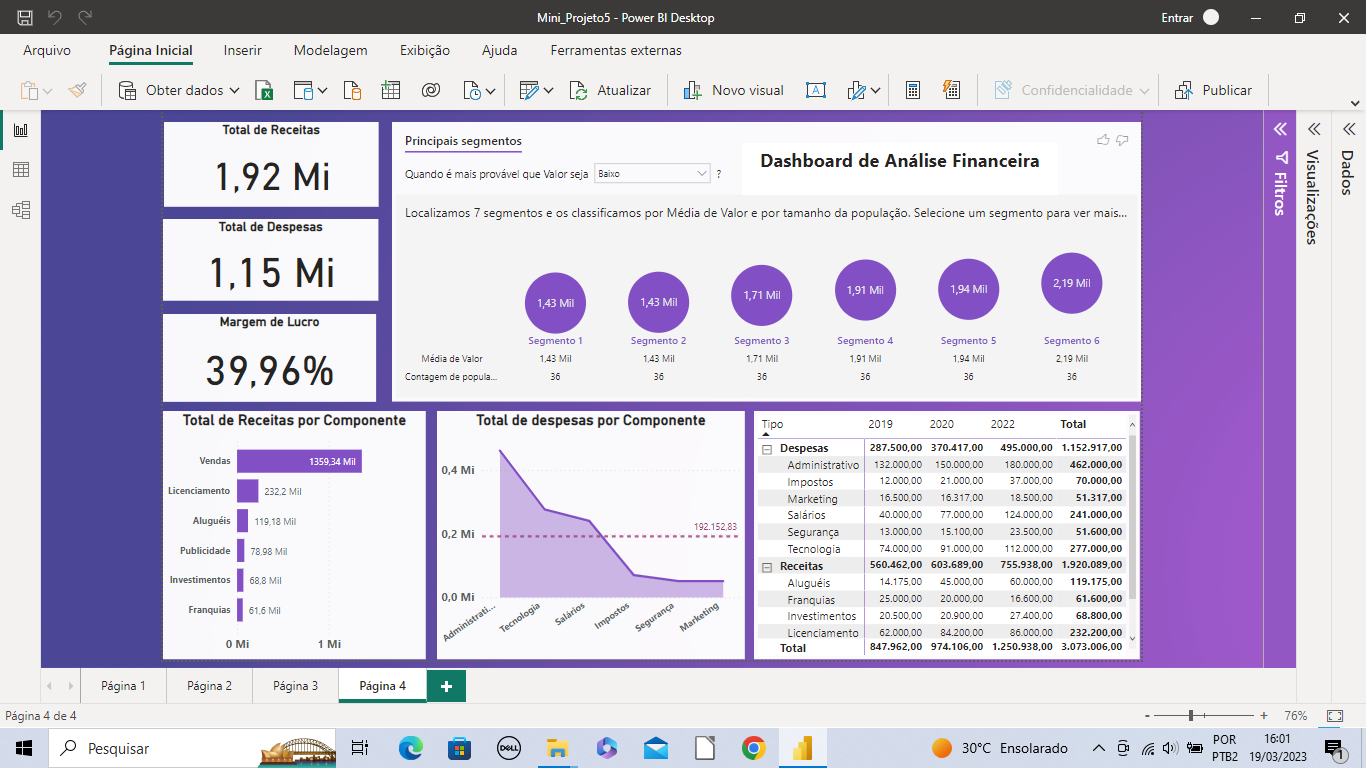

What the dashboard file says about the page in this screenshot:
{"tool":"powerbi","page":{"name":"Página 4","canvas":[1280,720],"ordinal":3},"visuals":[{"type":"keyDriversVisual","fields":{"Target":["DadosFinanceiros.Valor"],"ExplainBy":["DadosFinanceiros.Tipo","DadosFinanceiros.Componente"]},"box":[299.5,15.8,980.6,365.8],"z":0},{"type":"pivotTable","fields":{"Rows":["DadosFinanceiros.Tipo","DadosFinanceiros.Componente"],"Columns":["DadosFinanceiros.Data.Variation.Hierarquia de datas.Ano"],"Values":["Sum(DadosFinanceiros.Valor)"]},"box":[773.3,394.6,505.4,325.4],"z":1},{"type":"areaChart","title":"Total de despesas por Componente","fields":{"Y":["Medidas_Indicadores.total_despesas"],"Category":["DadosFinanceiros.Componente"]},"box":[358.6,394.6,403.2,325.4],"z":2},{"type":"clusteredBarChart","title":"Total de Receitas por Componente","fields":{"Category":["DadosFinanceiros.Componente"],"Y":["Medidas_Indicadores.total_receitas"]},"box":[0,394.6,344.2,325.4],"z":3},{"type":"card","title":"Total de Receitas","fields":{"Values":["Medidas_Indicadores.total_receitas"]},"box":[1.4,15.8,280.8,110.9],"z":4},{"type":"card","title":"Total de Despesas","fields":{"Values":["Medidas_Indicadores.total_despesas"]},"box":[0,142.6,282.2,106.6],"z":5},{"type":"card","title":"Margem de Lucro","fields":{"Values":["Medidas_Indicadores.margem_lucro"]},"box":[0,266.4,279.4,115.2],"z":6},{"type":"textbox","box":[757.4,43.2,413.3,67.7],"z":7}]}

Visuals, with their boxes on the page's 1280x720 design canvas (x1, y1, x2, y2). These are canvas units, not pixel positions in the 1366x768 screenshot, which may show the page scaled, cropped or inside an application window:
keyDriversVisual - DadosFinanceiros.Valor x DadosFinanceiros.Tipo: <box>300,16,1280,382</box>
pivotTable - DadosFinanceiros.Tipo x DadosFinanceiros.Componente: <box>773,395,1279,720</box>
"Total de despesas por Componente" areaChart: <box>359,395,762,720</box>
"Total de Receitas por Componente" clusteredBarChart: <box>0,395,344,720</box>
"Total de Receitas" card: <box>1,16,282,127</box>
"Total de Despesas" card: <box>0,143,282,249</box>
"Margem de Lucro" card: <box>0,266,279,382</box>
textbox: <box>757,43,1171,111</box>
